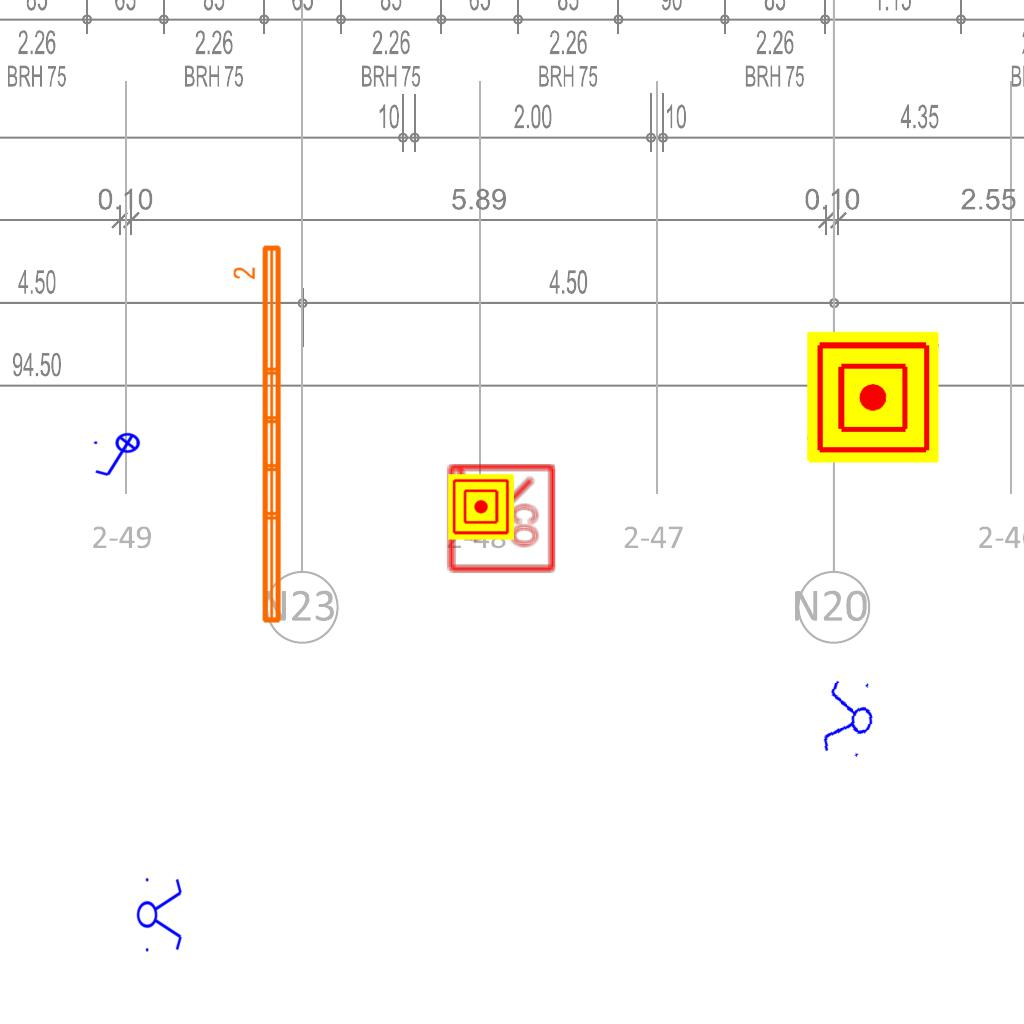Ambulanz_Pendelleuchte_LED: (231, 241, 287, 628)
Ausschalter_beleuchtet: (91, 432, 147, 480)
NAM-Nichtautomatischer_Melder: (807, 331, 939, 463), (448, 474, 514, 540)
ROA_Rauchmelder_optisch_mit_Signalgeber_(Sockelsirene): (444, 462, 557, 575)
Serienschalter: (818, 673, 880, 765), (136, 872, 184, 956)
